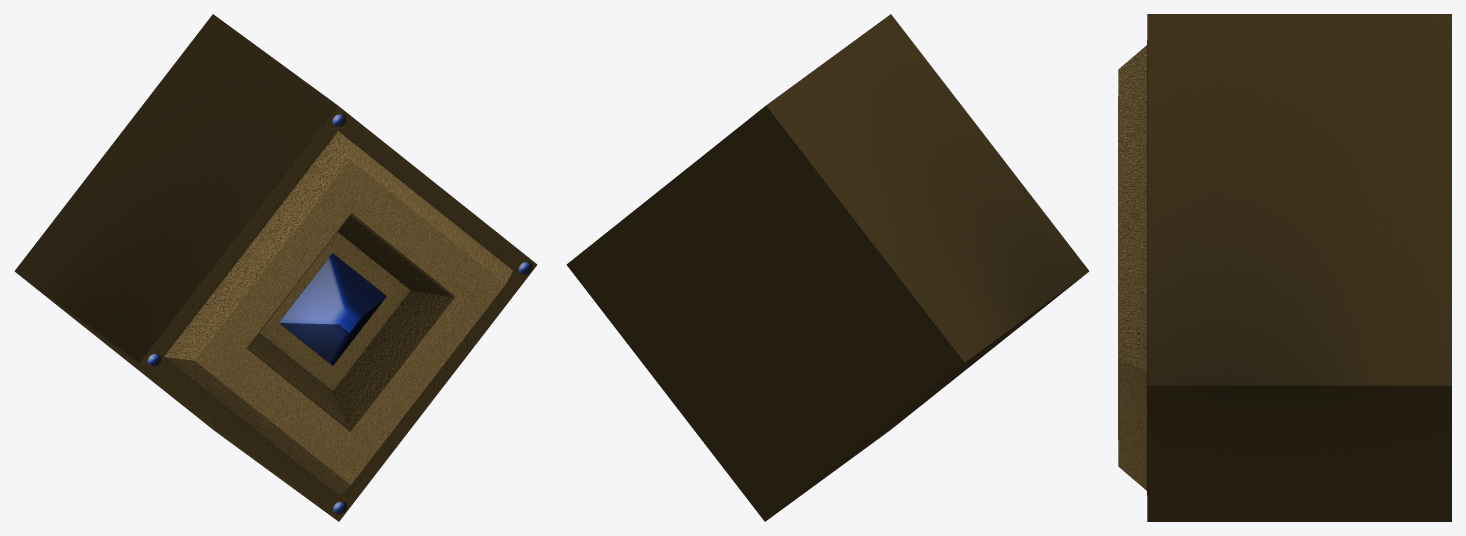
Rendered from diamond.FBX.
3 views of the same model, side by side, from view 1: azimuth 30°, elevation 25°; view 2: azimuth 150°, elevation 25°; view 3: azimuth 270°, elevation 25° (orthographic). The views are drawn at different scales.
Parts seen in each view (by area): view 1: diamond; view 2: diamond; view 3: diamond.
Part boxes in pixels (box(x1,y1,x2,y2)): diamond: box(14, 14, 537, 521); diamond: box(566, 14, 1089, 521); diamond: box(1118, 14, 1451, 521).
Bounding box in the file's own units: 72.38 × 72.38 × 43.16.
